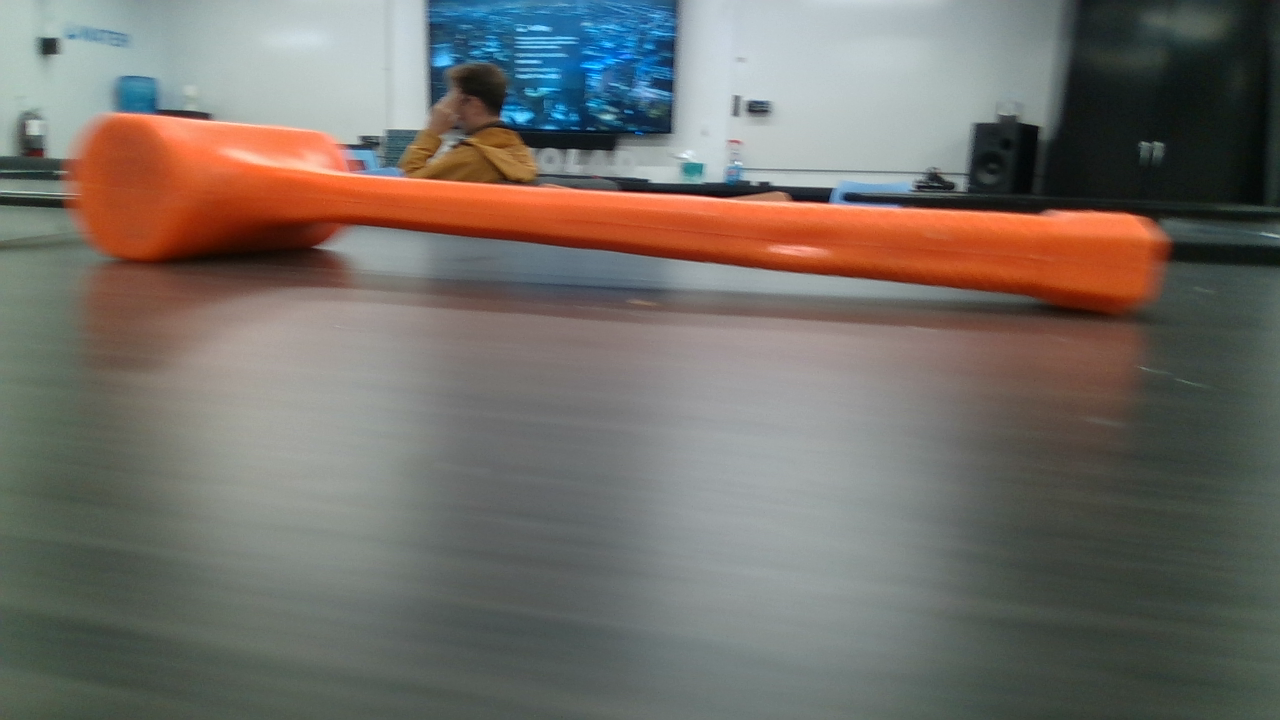Orange Hammer: (70, 112, 1164, 318)
